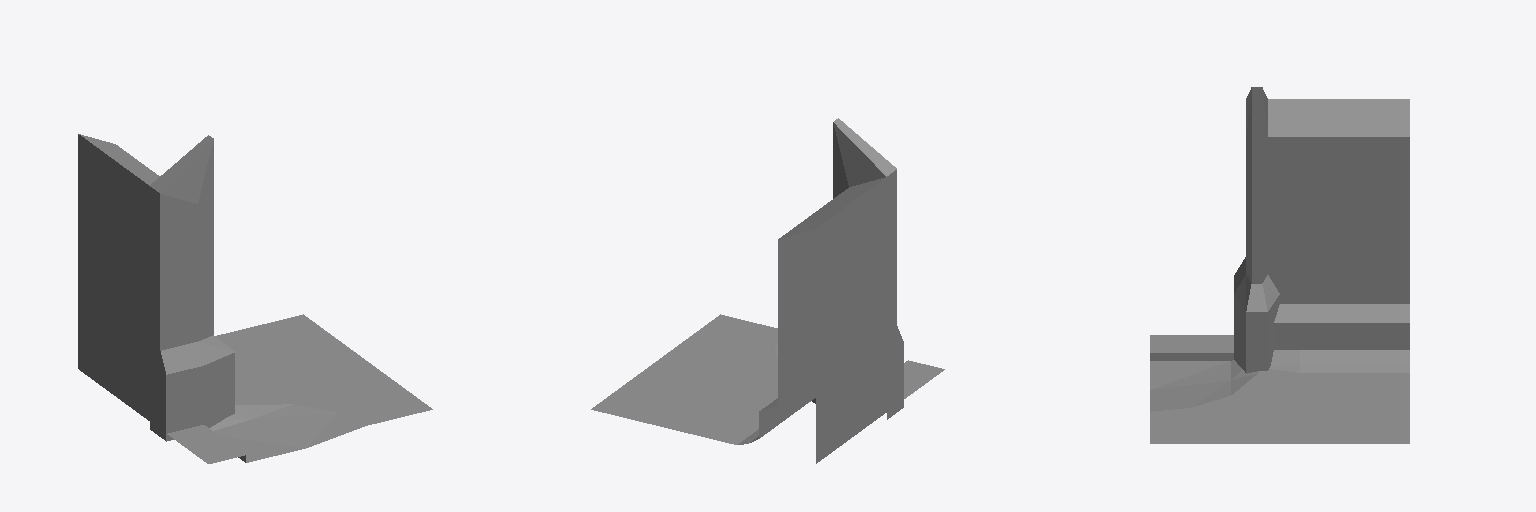
The model's file is Ext_Wall_Gap_Right.obj.
The picture shows the model from 3 angles: view 1: azimuth 30°, elevation 25°; view 2: azimuth 150°, elevation 25°; view 3: azimuth 270°, elevation 25°; orthographic projection.
Visible parts, largest first — view 1: Palette; view 2: Palette; view 3: Palette.
Part boxes in pixels (left/top/right/bottom): Palette: left=78, top=134, right=432, bottom=463; Palette: left=591, top=118, right=944, bottom=463; Palette: left=1150, top=87, right=1409, bottom=443.
Size of the model in its own units: 6 by 7.2 by 6.